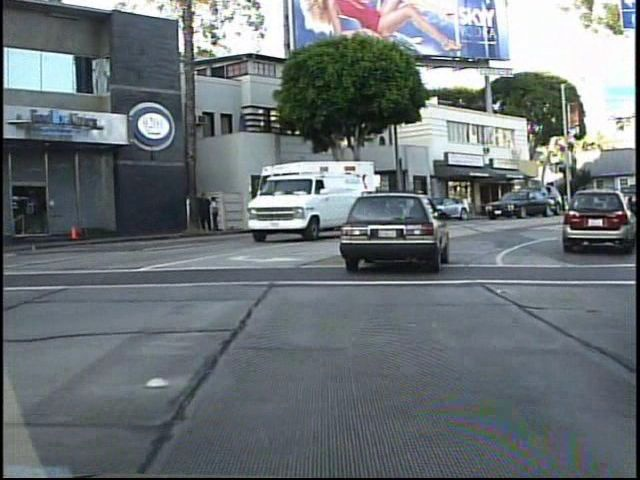person: (196, 191, 214, 234), (208, 194, 222, 232)
